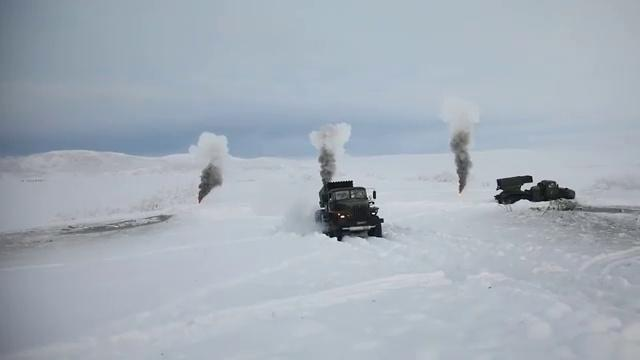MIL_SAM_TEL: (312, 177, 387, 243), (492, 171, 575, 206)
